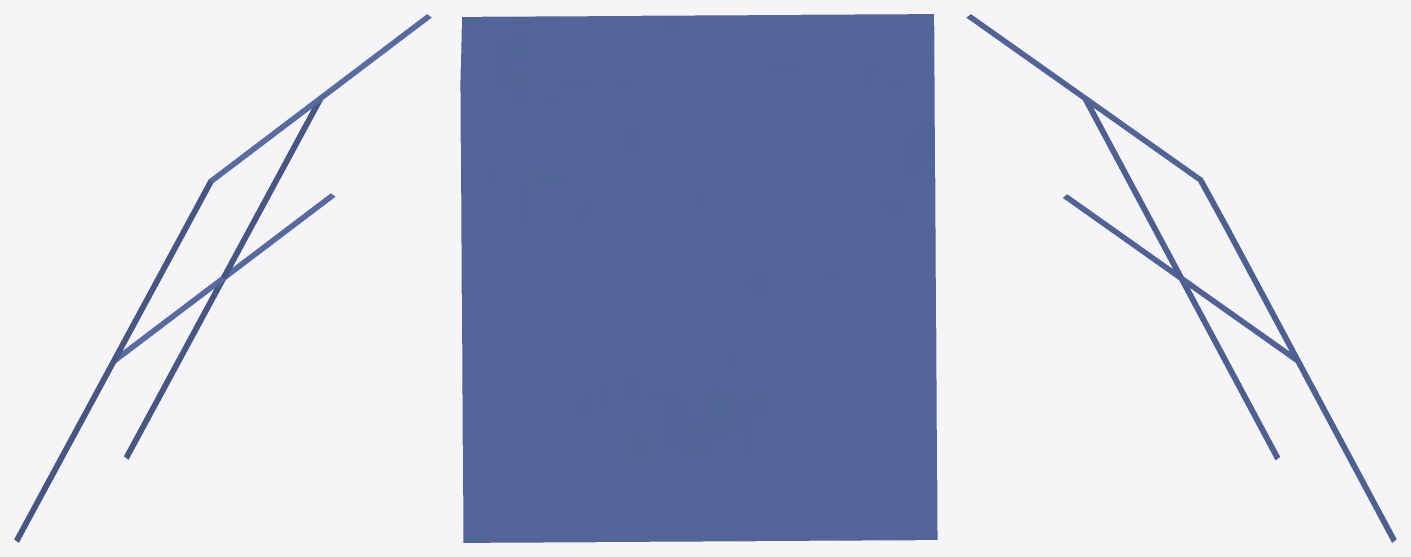
3 renders of one model, left to right at view 1: azimuth 30°, elevation 25°; view 2: azimuth 150°, elevation 25°; view 3: azimuth 270°, elevation 25°, orthographic. The views are drawn at different scales.
Size of the model in its own units: 19690 by 17661 by 16743.
Materials: 1 (1 with a texture image).
